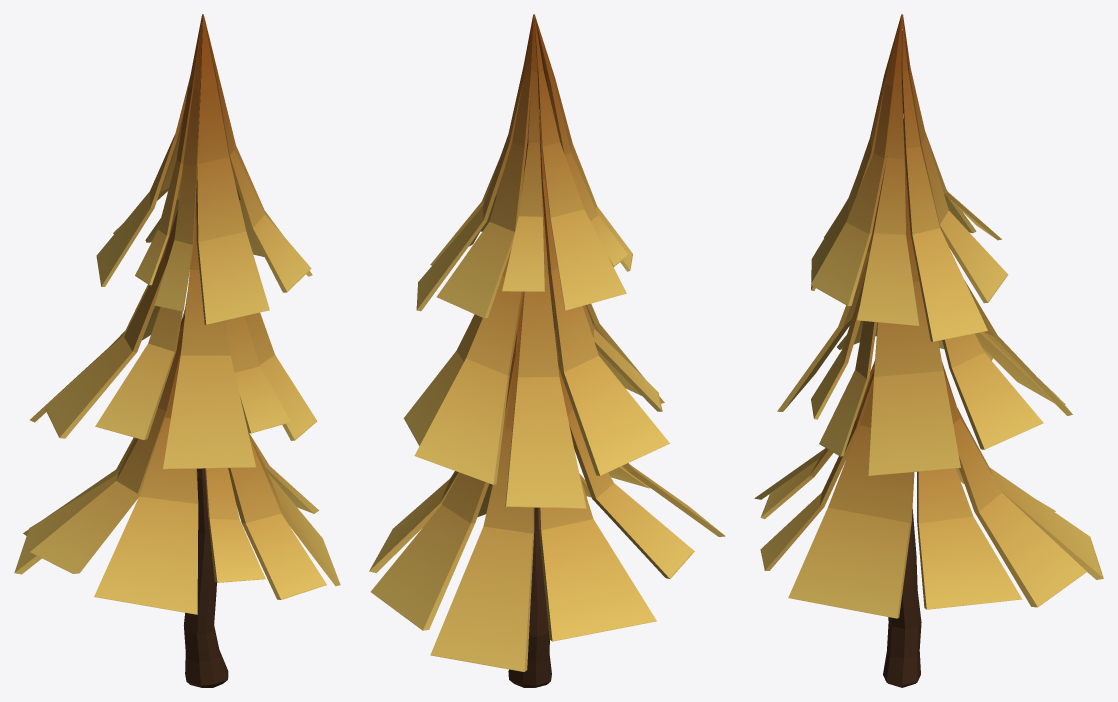
File: Tree2Dry.fbx
The picture shows the model from 3 angles, left to right: view 1: azimuth 30°, elevation 25°; view 2: azimuth 150°, elevation 25°; view 3: azimuth 270°, elevation 25°; orthographic projection.
Visible parts, largest first — view 1: SmallTree_LOD0; view 2: SmallTree_LOD0; view 3: SmallTree_LOD0.
Part boxes in pixels (x1,y1,x2,y2): SmallTree_LOD0: (14, 14, 340, 687); SmallTree_LOD0: (369, 14, 725, 687); SmallTree_LOD0: (754, 14, 1103, 687).
Size of what is drawn, in the model's own units: 166 by 373 by 178.
Materials: 2 (2 with a texture image).
